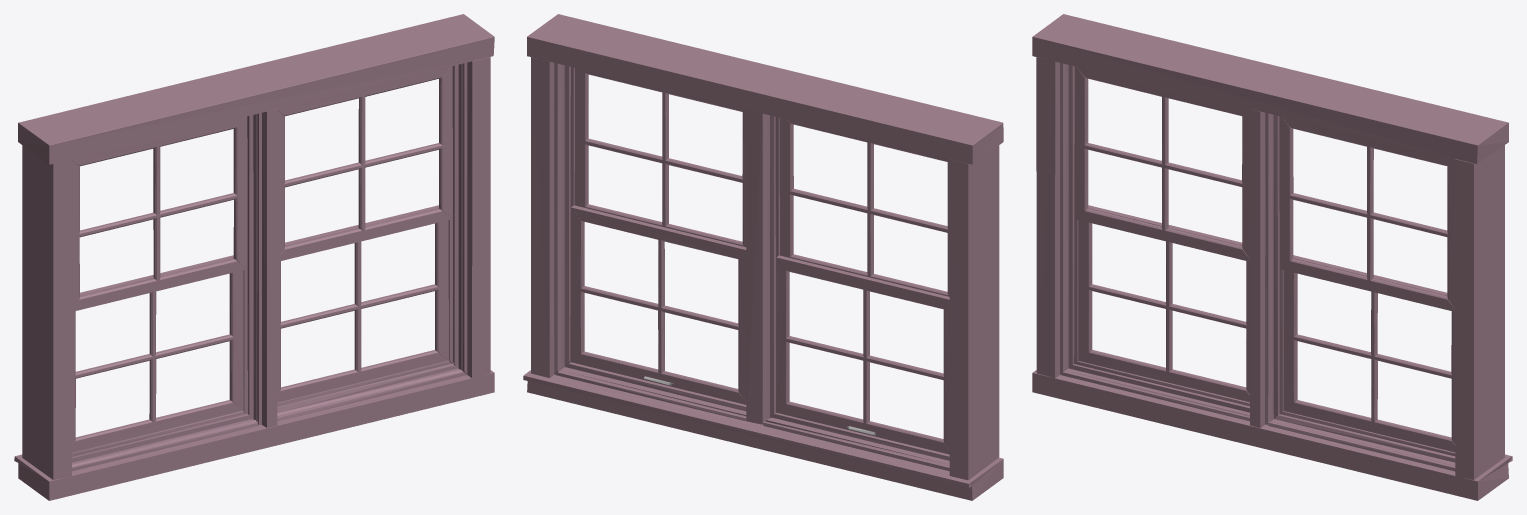
The model's file is SM_BigHouse_Window_C_3.fbx.
3 renders of one model, left to right at view 1: azimuth 30°, elevation 25°; view 2: azimuth 150°, elevation 25°; view 3: azimuth 330°, elevation 25°, orthographic.
Parts seen in each view (by area): view 1: SM_BigHouse_Window_C_3; view 2: SM_BigHouse_Window_C_3; view 3: SM_BigHouse_Window_C_3.
Boxes of the visible parts, box(x1,y1,x2,y2) form: SM_BigHouse_Window_C_3: box(14, 14, 494, 500); SM_BigHouse_Window_C_3: box(523, 14, 1003, 500); SM_BigHouse_Window_C_3: box(1032, 14, 1512, 500).
Size of the model in its own units: 215 by 29.07 by 164.
